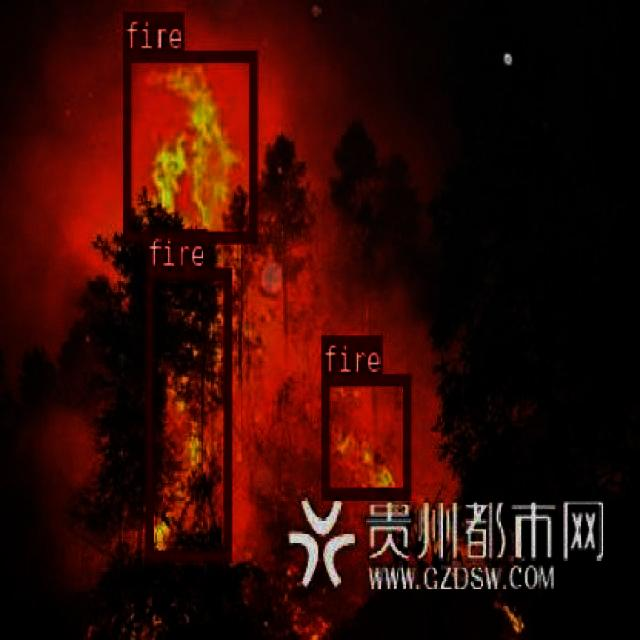fire: (122, 51, 256, 240), (144, 267, 230, 558), (321, 373, 410, 495)
